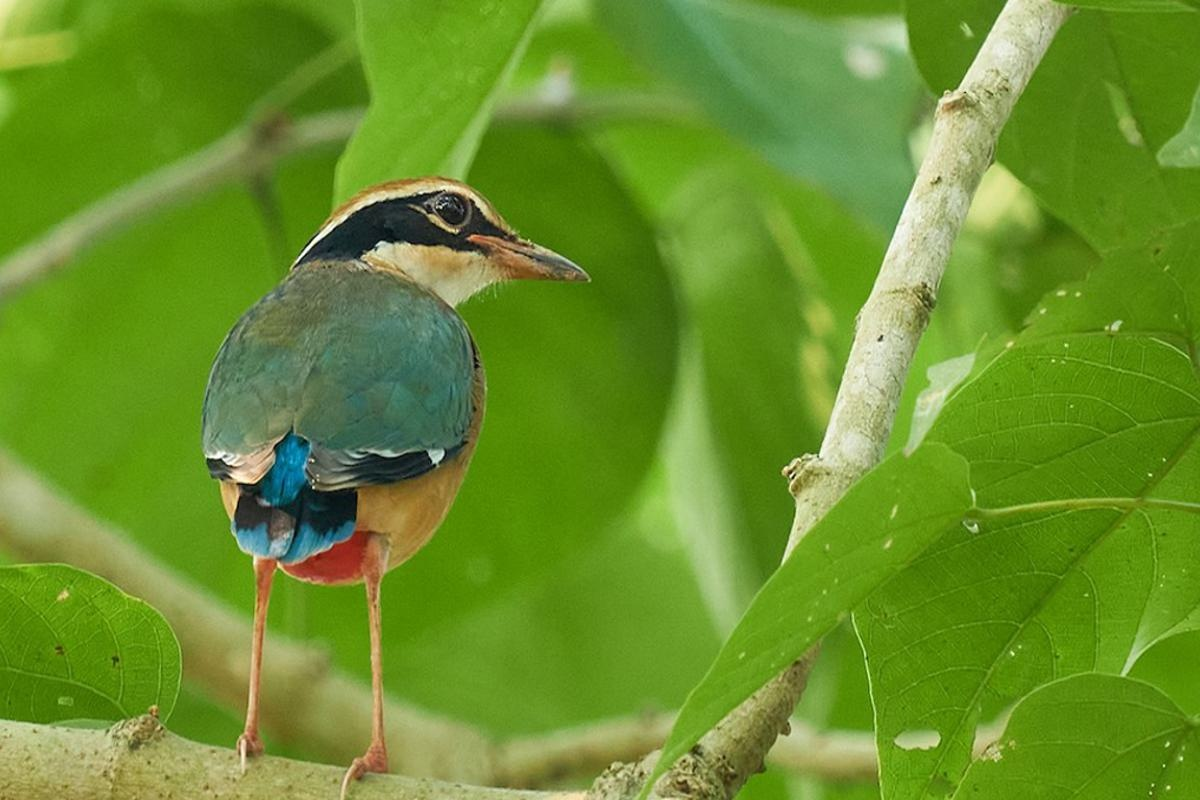pitta: (167, 157, 619, 745)
